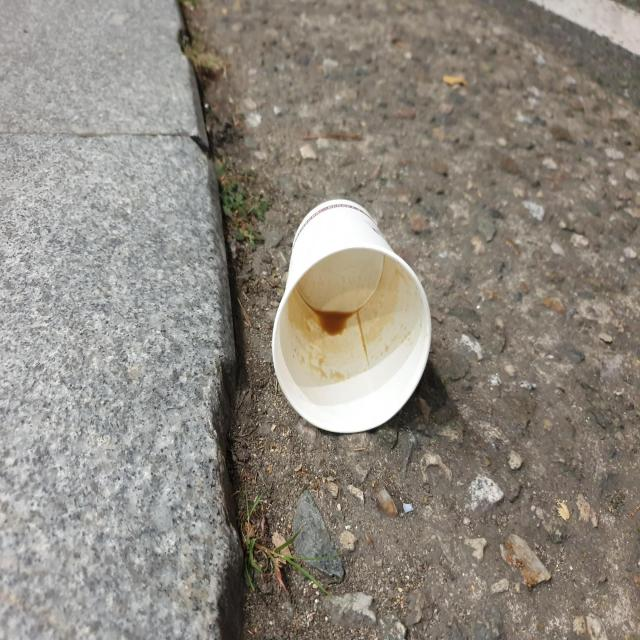paperpack: (272, 200, 431, 433)
